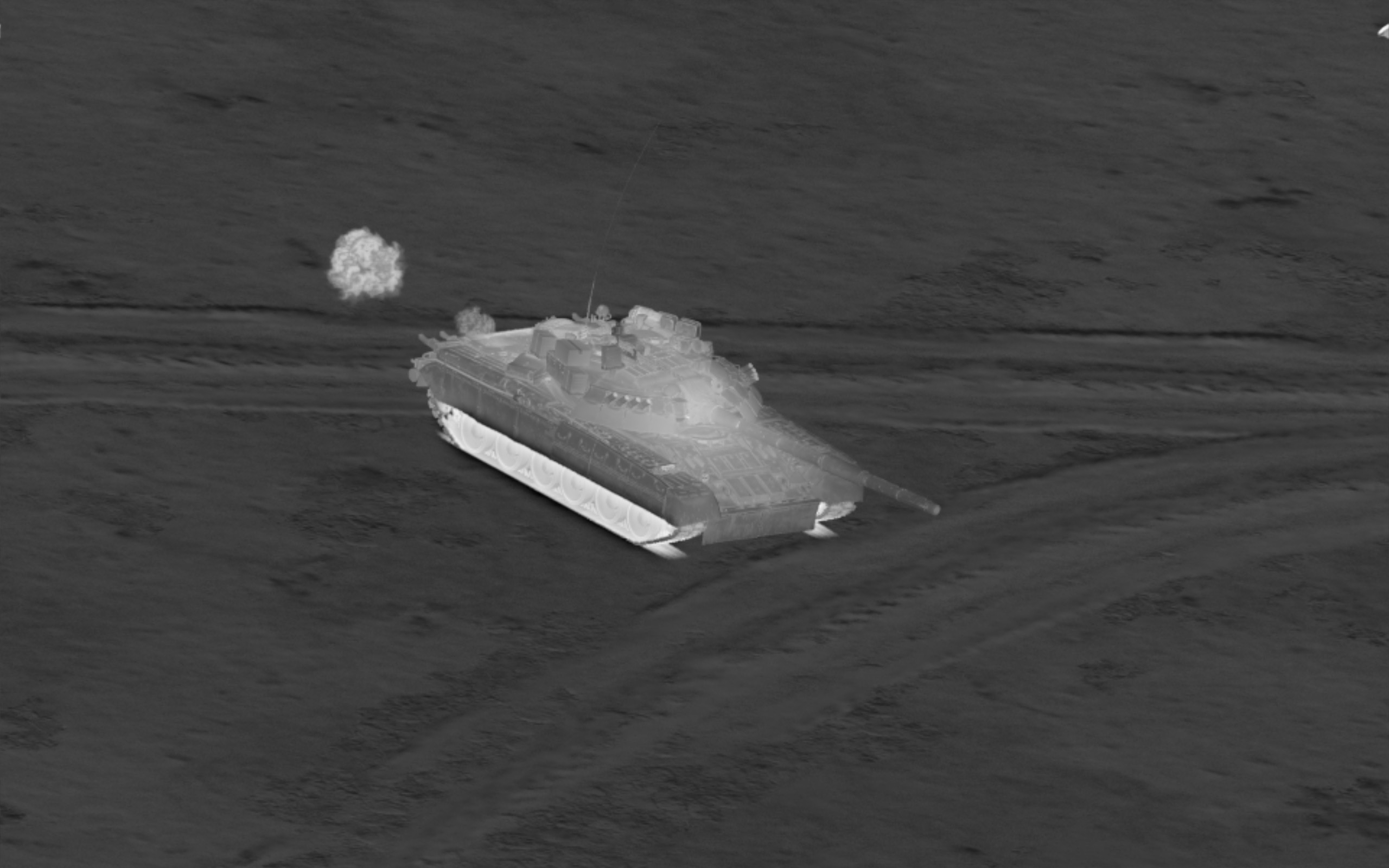t-80u: (408, 304, 944, 548)
